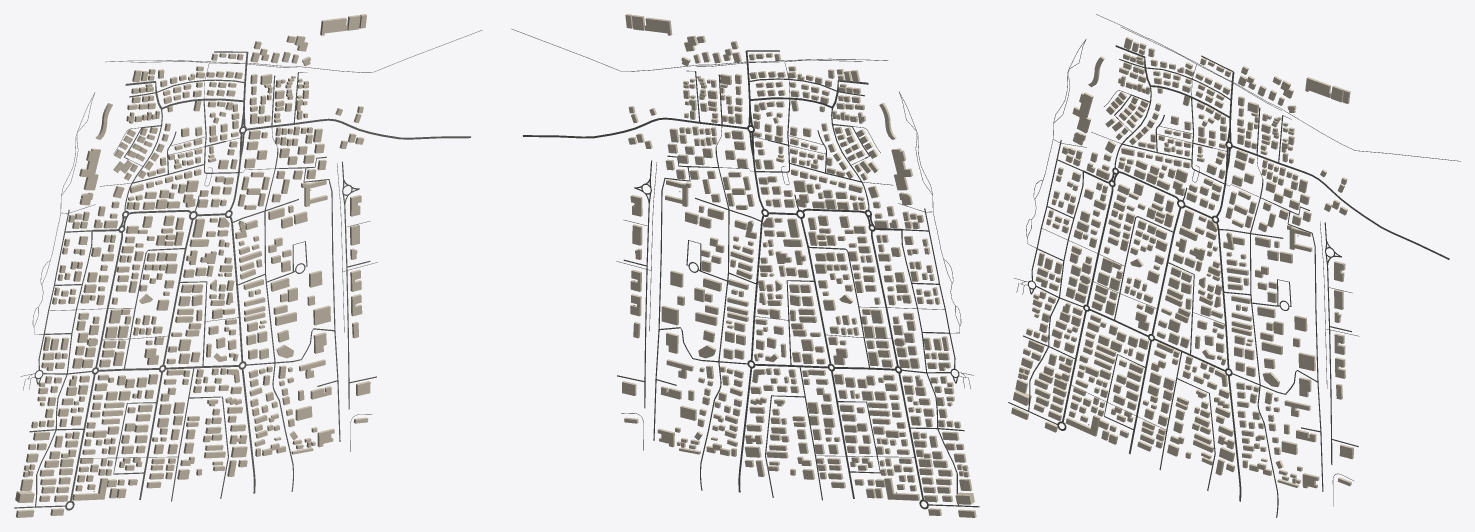
File: historic-palestine-09_36_3509_3301.glb
3 views of the same model, side by side, from view 1: azimuth 30°, elevation 25°; view 2: azimuth 150°, elevation 25°; view 3: azimuth 330°, elevation 25° (orthographic). The views are drawn at different scales.
Visible parts, largest first — view 1: Road מסריק, Building_.530, Road .014; view 2: Road מסריק, Building_.530, Road .014; view 3: Road מסריק, Road .014.
Boxes of the visible parts, x1=… form: Road מסריק: x1=246, y1=118, x2=470, y2=139; Building_.530: x1=79, y1=148, x2=100, y2=190; Road .014: x1=303, y1=168, x2=340, y2=441; Road מסריק: x1=523, y1=117, x2=747, y2=138; Building_.530: x1=891, y1=148, x2=912, y2=190; Road .014: x1=653, y1=166, x2=690, y2=440; Road מסריק: x1=1232, y1=145, x2=1449, y2=259; Road .014: x1=1287, y1=211, x2=1323, y2=491.
Bounding box in the file's own units: 1298 × 1260 × 19.8.
